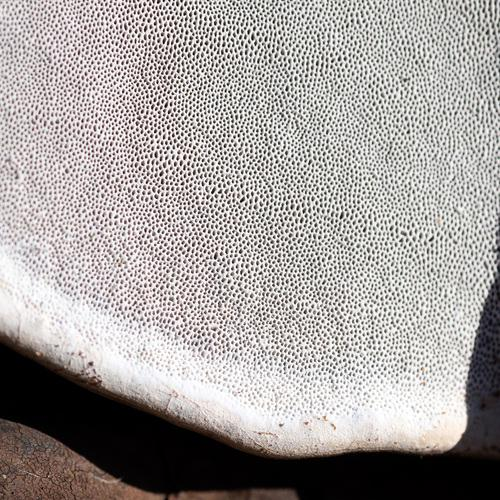Ganoderma - Fruit Body: (2, 0, 500, 464)
